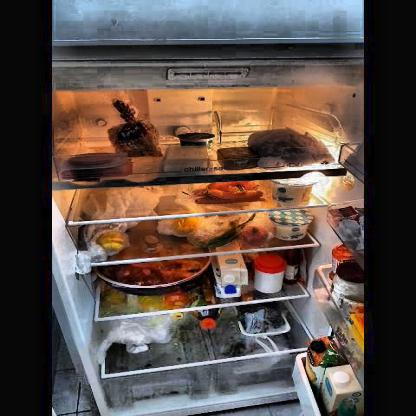broccoli: (238, 309, 287, 333)
butter: (218, 146, 258, 167)
carrot: (192, 182, 264, 202)
cheese: (164, 146, 210, 168)
green_chillies: (192, 230, 242, 248)
lemon: (98, 230, 130, 254), (171, 218, 202, 234)
milk: (327, 366, 358, 410), (216, 256, 247, 296)
salami: (70, 152, 122, 168)
tomato: (241, 225, 270, 244)
yoghurt: (269, 211, 313, 239), (270, 179, 314, 204), (179, 134, 213, 146)
